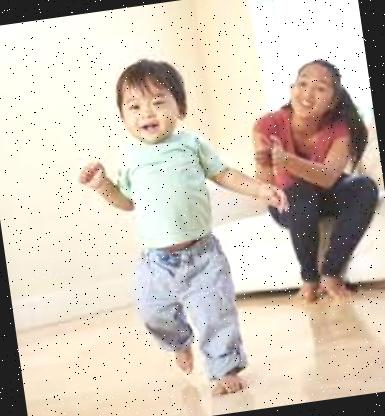person: (61, 40, 273, 416), (237, 45, 385, 314)
